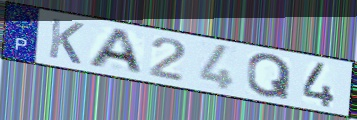2: (148, 37, 189, 83)
4: (197, 42, 239, 94), (301, 61, 336, 109)
A: (84, 27, 146, 77)
K: (46, 16, 86, 67)
Q: (245, 53, 293, 102)
